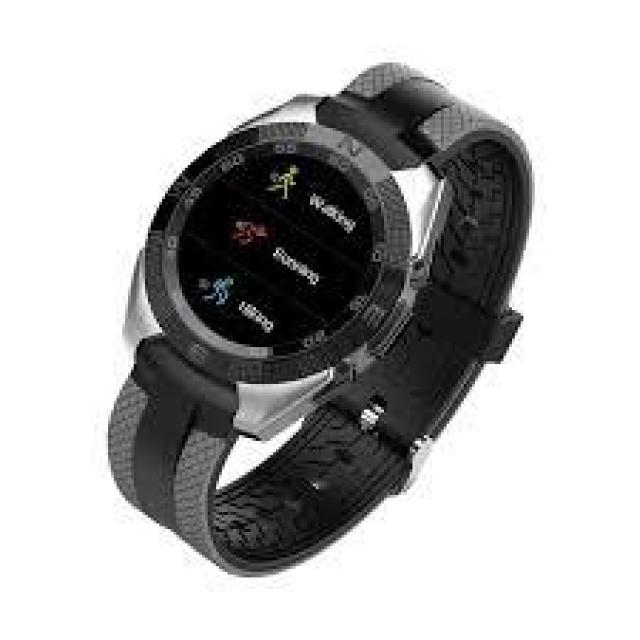watch: (147, 41, 565, 570)
